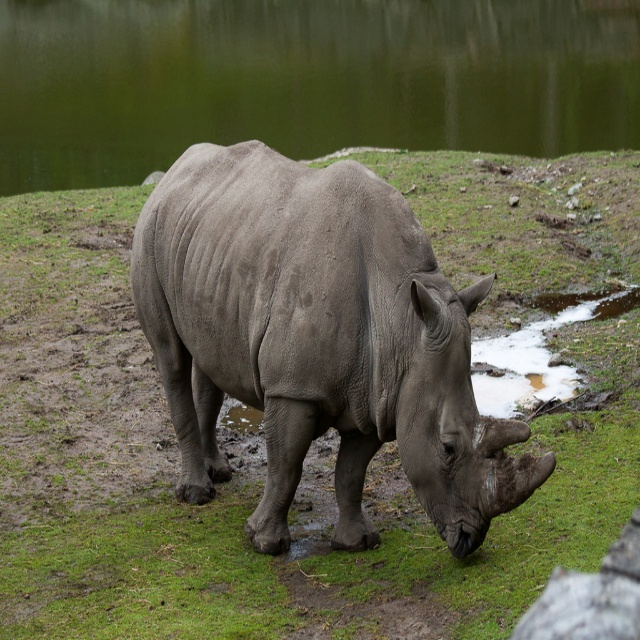Rhinoceros: (124, 132, 560, 573)
